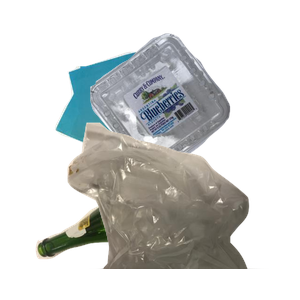glass: (33, 158, 246, 300)
paper: (52, 49, 209, 198)
plastic: (88, 31, 300, 198)
trash: (65, 120, 300, 300)
